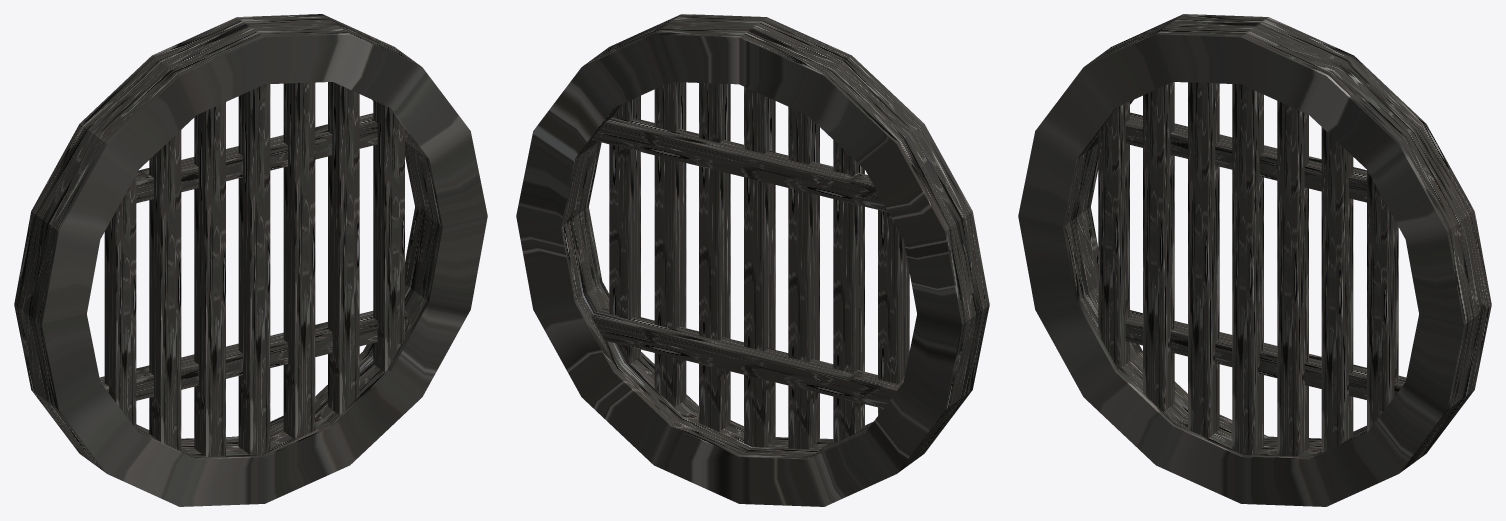
File: Sewer_Grate_Round_ColliderMesh.fbx
The picture shows the model from 3 angles, left to right: view 1: azimuth 30°, elevation 25°; view 2: azimuth 150°, elevation 25°; view 3: azimuth 330°, elevation 25°; orthographic projection.
Parts seen in each view (by area): view 1: Sewer_Grate_Round_ColliderMesh; view 2: Sewer_Grate_Round_ColliderMesh; view 3: Sewer_Grate_Round_ColliderMesh.
Part boxes in pixels (x1,y1,x2,y2): Sewer_Grate_Round_ColliderMesh: (14, 14, 487, 506); Sewer_Grate_Round_ColliderMesh: (516, 14, 989, 506); Sewer_Grate_Round_ColliderMesh: (1018, 14, 1491, 506).
Bounding box in the file's own units: 179 × 179 × 19.32.
1 material, 1 textured.
